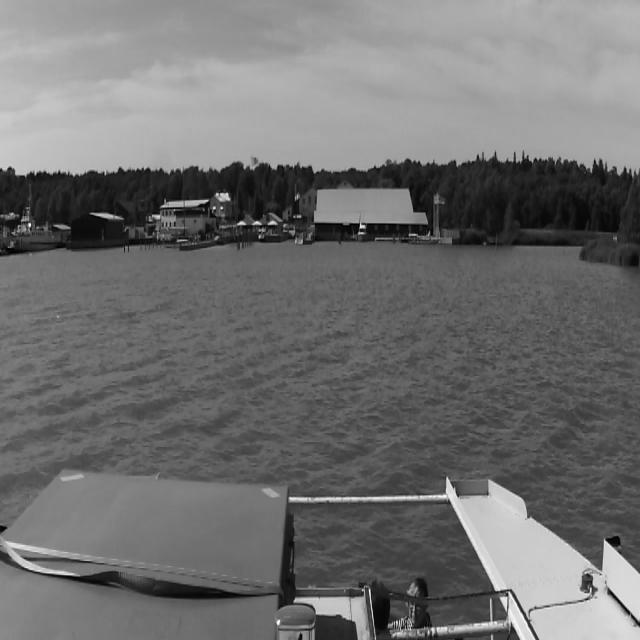ship: (11, 207, 55, 252), (413, 178, 433, 242), (354, 207, 372, 244)
